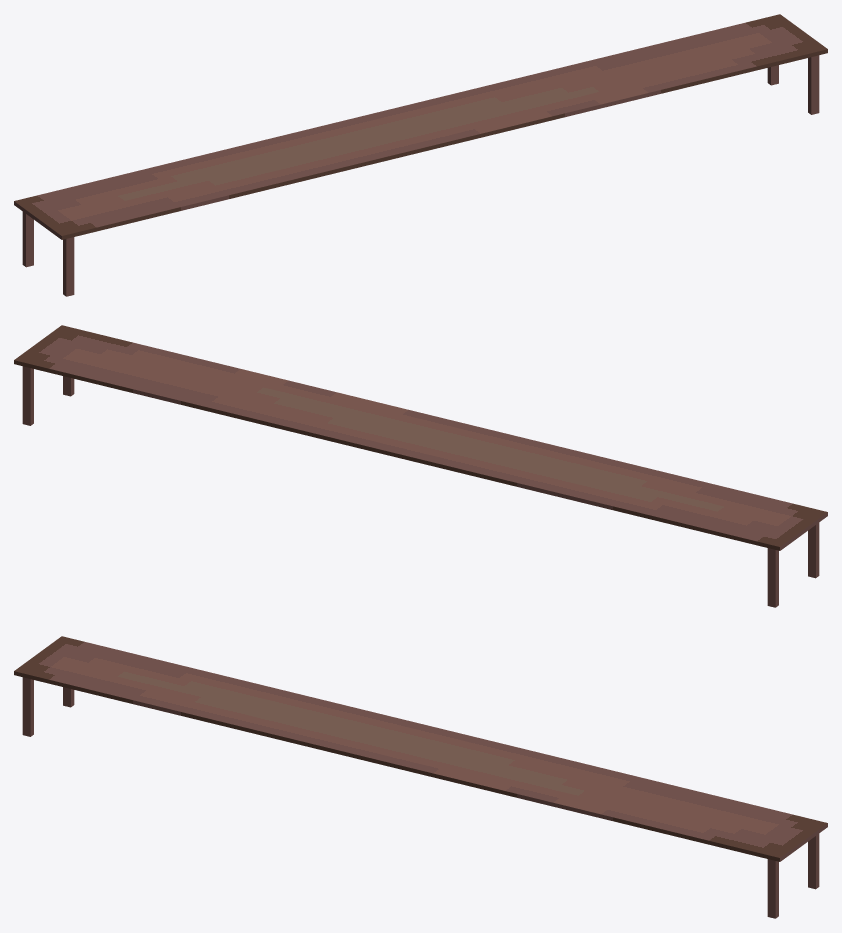
The model's file is Long table.fbx.
3 renders of one model, top to bottom at view 1: azimuth 30°, elevation 25°; view 2: azimuth 150°, elevation 25°; view 3: azimuth 330°, elevation 25°, orthographic.
Visible parts, largest first — view 1: Cube.004; view 2: Cube.004; view 3: Cube.004.
Part boxes in pixels (<box>): Cube.004: <box>14,14,827,296</box>; Cube.004: <box>14,325,827,607</box>; Cube.004: <box>14,636,827,918</box>.
Bounding box in the file's own units: 2453 × 195 × 265.
Materials: 1 (1 with a texture image).
